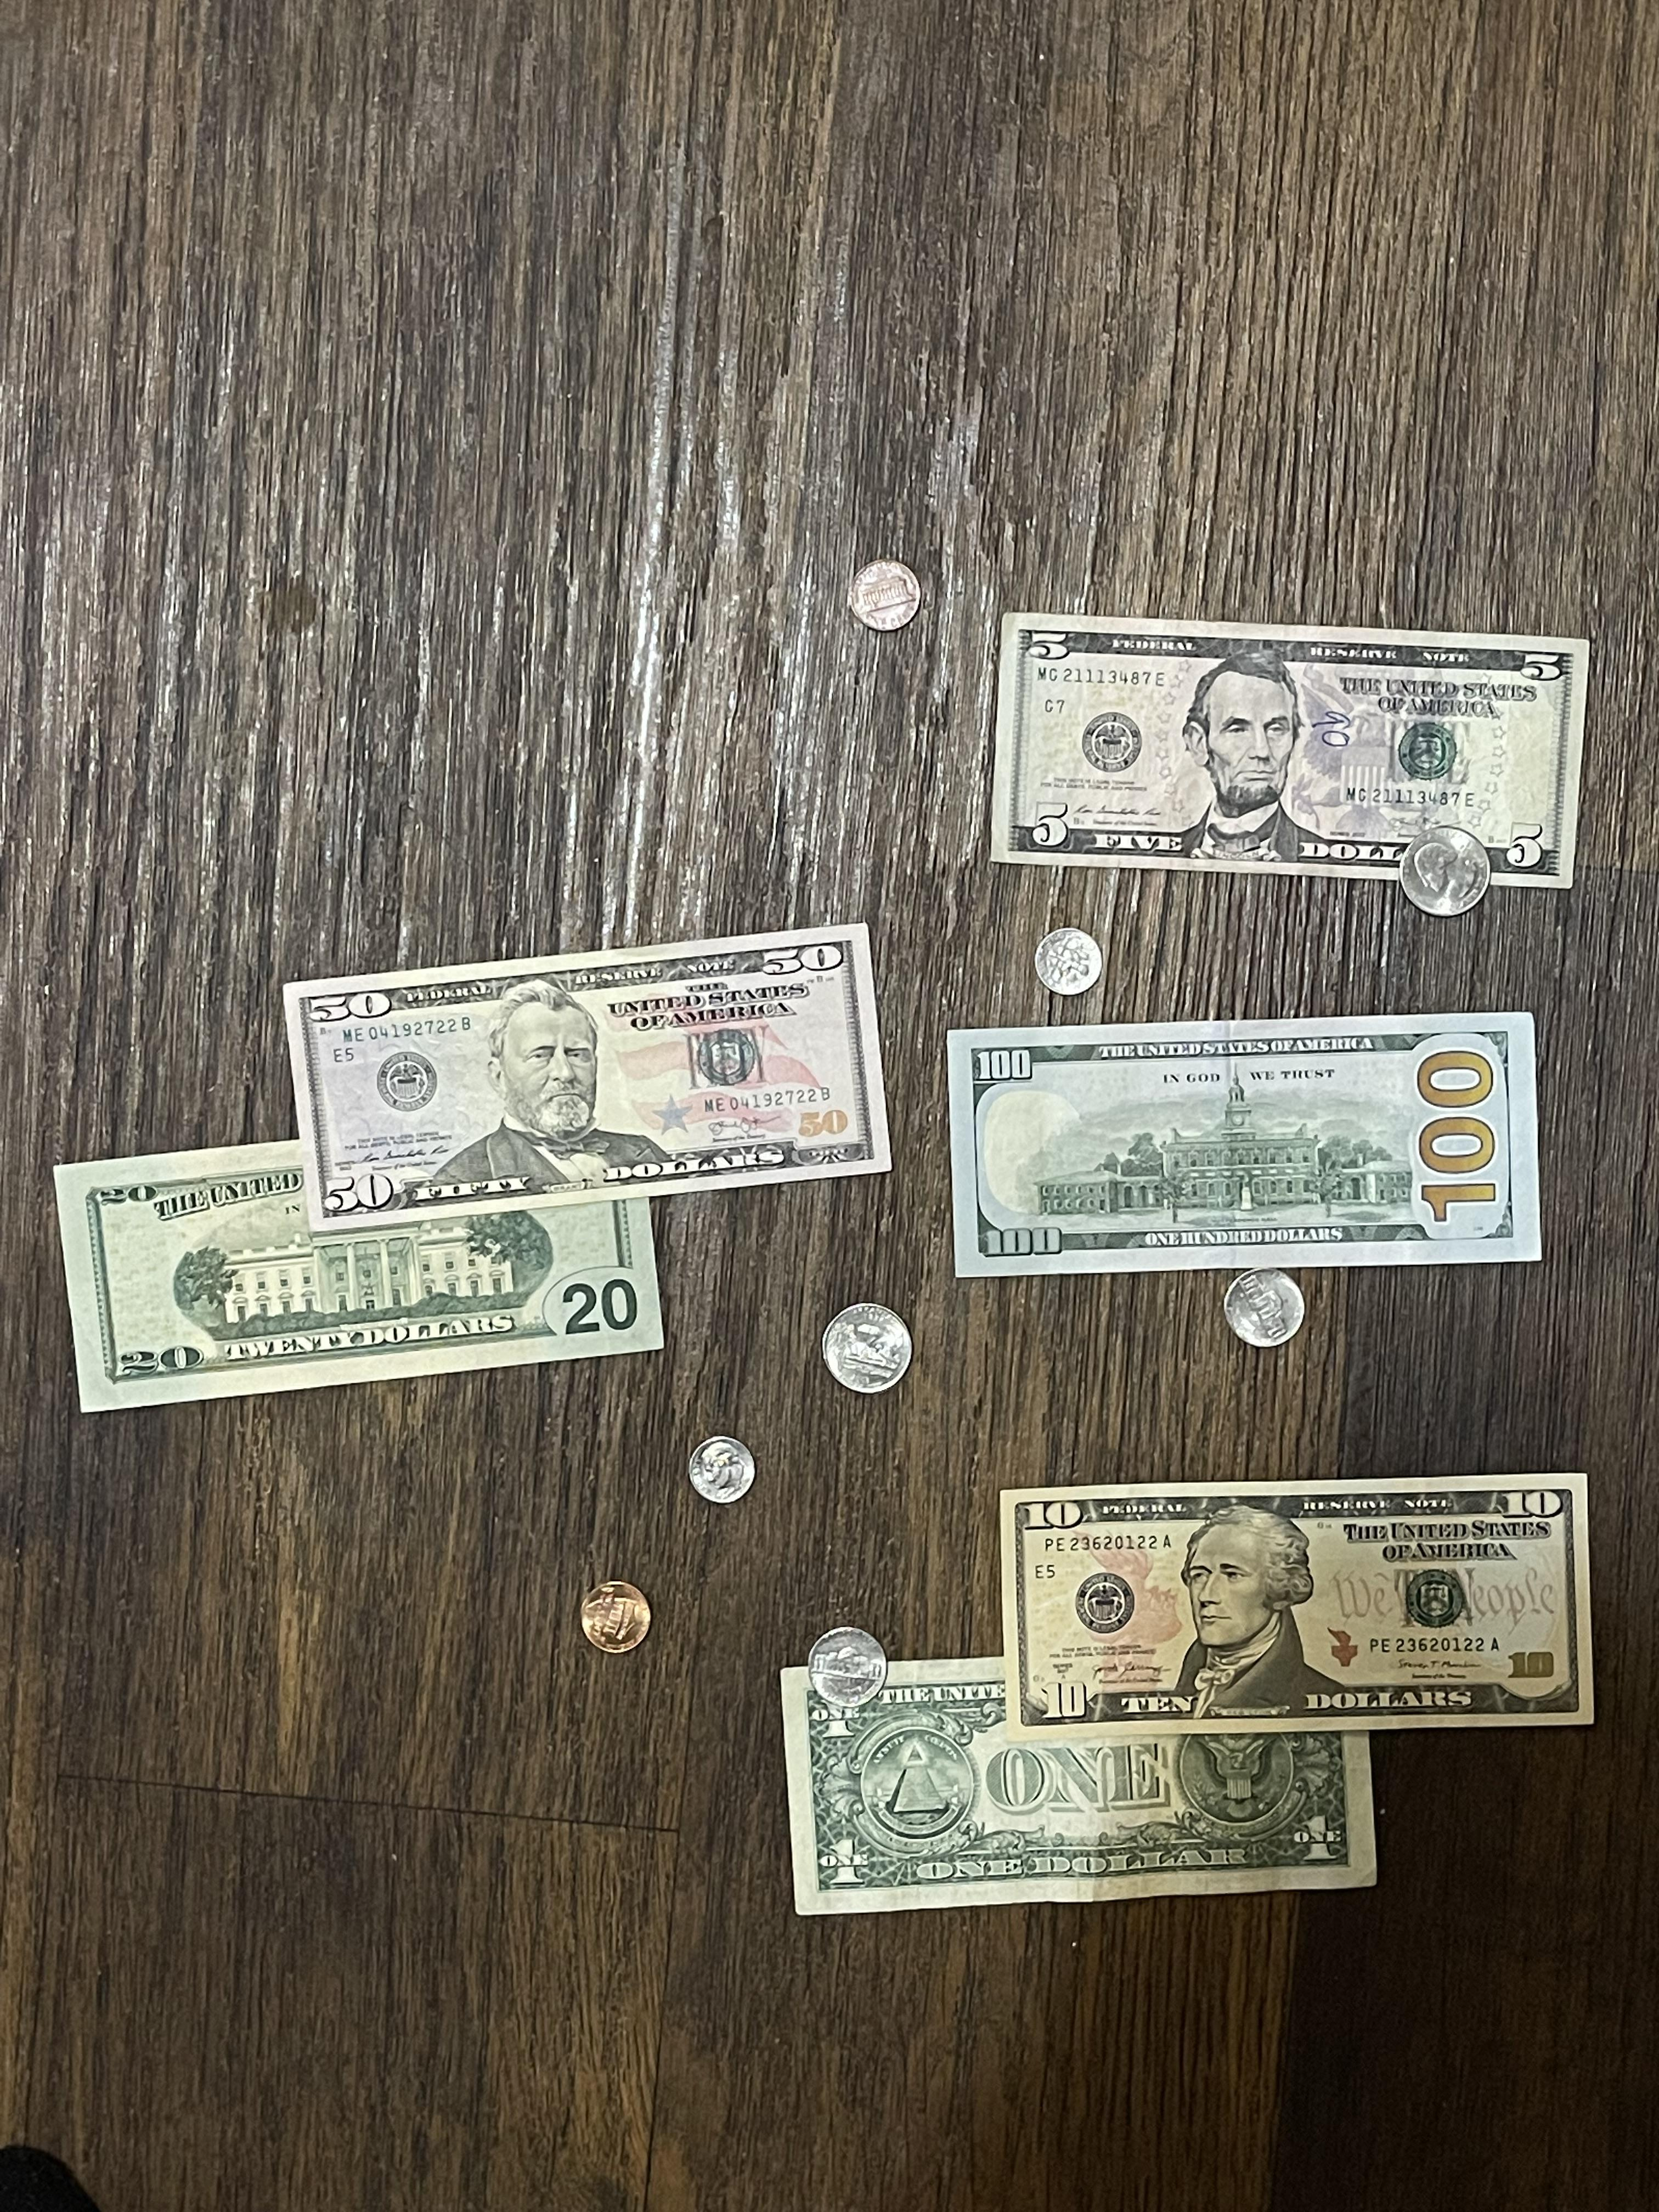Dime: (1032, 927, 1101, 996), (688, 1435, 756, 1503)
FiftyBill: (282, 921, 892, 1233)
FiveBill: (990, 610, 1591, 888)
HundredBill: (945, 1010, 1544, 1280)
Nickel: (1222, 1268, 1307, 1348), (807, 1627, 889, 1709)
OneBill: (781, 1656, 1378, 1918)
Penny: (849, 559, 922, 632), (580, 1580, 652, 1653)
Quarter: (1398, 826, 1492, 918), (821, 1303, 913, 1395)
TenBill: (1000, 1470, 1595, 1742)
TwentyBill: (52, 1139, 666, 1414)
